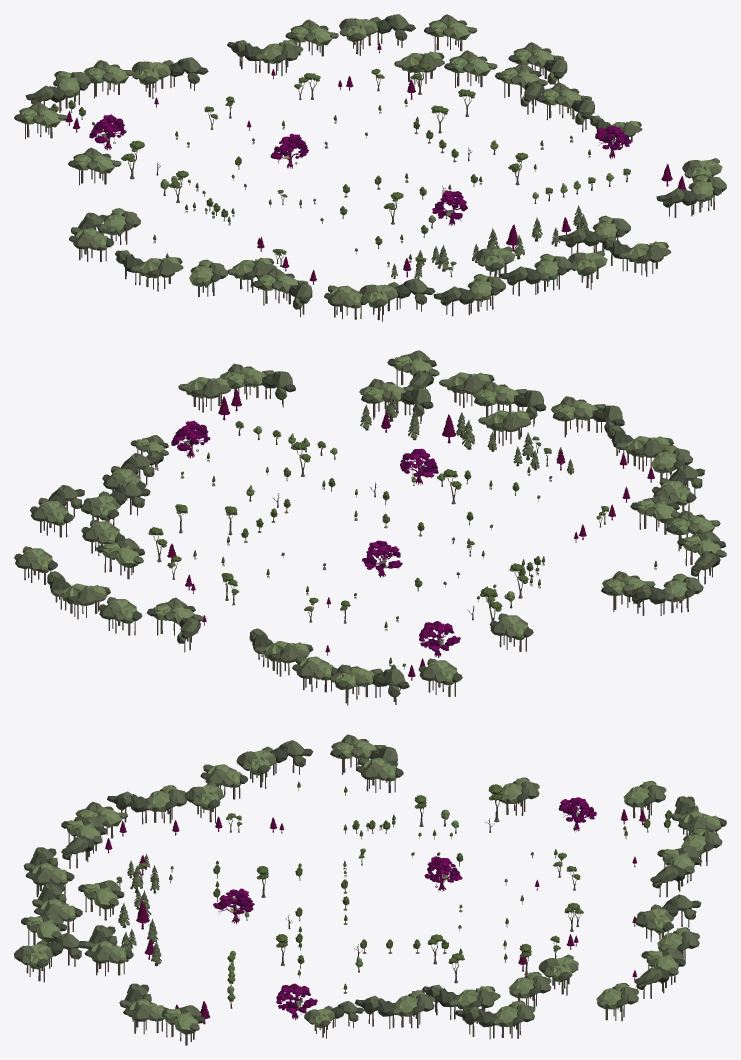
The model's file is Env_Tree.glb.
The picture shows the model from 3 angles, top to bottom: view 1: azimuth 30°, elevation 25°; view 2: azimuth 150°, elevation 25°; view 3: azimuth 270°, elevation 25°; orthographic projection. The views are drawn at different scales.
Parts seen in each view (by area): view 1: SM_Env_Tree_Leaves_01 (×4), SM_Generic_Tree_Patch_02 (10), SM_Generic_Tree_Patch_02 (14), SM_Generic_Tree_Patch_02 (1), SM_Generic_Tree_Patch_02 (2), SM_Generic_Tree_Patch_02 (3), SM_Generic_Tree_Patch_02 (15), SM_Generic_Tree_Patch_02 (19), SM_Generic_Tree_Patch_02 (11), SM_Generic_Tree_Patch_02 (8), SM_Generic_Tree_Patch_02 (13), SM_Generic_Tree_Patch_02 (4) (+20 smaller); view 2: SM_Env_Tree_Leaves_01 (×4), SM_Generic_Tree_Patch_02 (18), SM_Generic_Tree_Patch_02 (12), SM_Generic_Tree_Patch_02 (5), SM_Generic_Tree_Patch_02 (11), SM_Generic_Tree_Patch_02 (2), SM_Generic_Tree_Patch_02 (3), SM_Generic_Tree_Patch_02 (9), SM_Generic_Tree_Patch_02 (7), SM_Generic_Tree_Patch_02 (10), SM_Generic_Tree_Patch_02 (15), SM_Generic_Tree_Patch_02 (14) (+20 smaller); view 3: SM_Env_Tree_Leaves_01 (×4), SM_Generic_Tree_Patch_02 (4), SM_Generic_Tree_Patch_02 (13), SM_Generic_Tree_Patch_02 (8), SM_Generic_Tree_Patch_02 (9), SM_Generic_Tree_Patch_02 (19), SM_Generic_Tree_Patch_02 (15), SM_Generic_Tree_Patch_02 (14), SM_Generic_Tree_Patch_02 (10), SM_Generic_Tree_Patch_02 (12), SM_Generic_Tree_Patch_02 (1), SM_Generic_Tree_Patch_02 (7) (+20 smaller).
Boxes of the visible parts, box(x1,y1,x2,y2) form: SM_Env_Tree_Leaves_01 (×4): box(89, 114, 631, 219); SM_Generic_Tree_Patch_02 (10): box(339, 14, 415, 55); SM_Generic_Tree_Patch_02 (14): box(131, 57, 208, 98); SM_Generic_Tree_Patch_02 (1): box(359, 278, 435, 321); SM_Generic_Tree_Patch_02 (2): box(433, 274, 505, 316); SM_Generic_Tree_Patch_02 (3): box(500, 253, 571, 296); SM_Generic_Tree_Patch_02 (15): box(227, 40, 303, 75); SM_Generic_Tree_Patch_02 (19): box(252, 267, 312, 317); SM_Generic_Tree_Patch_02 (11): box(656, 175, 726, 217); SM_Generic_Tree_Patch_02 (8): box(536, 82, 594, 132); SM_Generic_Tree_Patch_02 (13): box(600, 236, 671, 276); SM_Generic_Tree_Patch_02 (4): box(115, 250, 183, 291); SM_Env_Tree_Leaves_01 (×4): box(171, 420, 460, 651); SM_Generic_Tree_Patch_02 (18): box(330, 664, 409, 705); SM_Generic_Tree_Patch_02 (12): box(359, 378, 433, 423); SM_Generic_Tree_Patch_02 (5): box(623, 573, 703, 615); SM_Generic_Tree_Patch_02 (11): box(220, 363, 295, 407); SM_Generic_Tree_Patch_02 (2): box(551, 396, 624, 437); SM_Generic_Tree_Patch_02 (3): box(472, 381, 546, 426); SM_Generic_Tree_Patch_02 (9): box(30, 485, 84, 537); SM_Generic_Tree_Patch_02 (7): box(80, 482, 150, 525); SM_Generic_Tree_Patch_02 (10): box(47, 571, 110, 619); SM_Generic_Tree_Patch_02 (15): box(147, 597, 203, 652); SM_Generic_Tree_Patch_02 (14): box(249, 628, 313, 676); SM_Env_Tree_Leaves_01 (×4): box(213, 797, 596, 1014); SM_Generic_Tree_Patch_02 (4): box(236, 740, 313, 788); SM_Generic_Tree_Patch_02 (13): box(14, 932, 85, 982); SM_Generic_Tree_Patch_02 (8): box(354, 990, 434, 1028); SM_Generic_Tree_Patch_02 (9): box(455, 1000, 535, 1039); SM_Generic_Tree_Patch_02 (19): box(107, 785, 187, 824); SM_Generic_Tree_Patch_02 (15): box(634, 894, 701, 941); SM_Generic_Tree_Patch_02 (14): box(650, 846, 701, 897); SM_Generic_Tree_Patch_02 (10): box(634, 948, 685, 998); SM_Generic_Tree_Patch_02 (12): box(84, 925, 133, 976); SM_Generic_Tree_Patch_02 (1): box(61, 816, 107, 868); SM_Generic_Tree_Patch_02 (7): box(422, 984, 500, 1023).
Size of the model in its own units: 214 by 14.36 by 222.
1 material, 1 textured.
